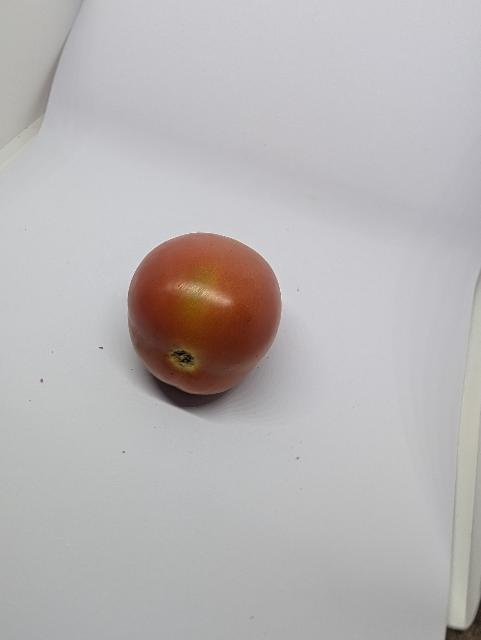turning: (125, 230, 286, 400)
